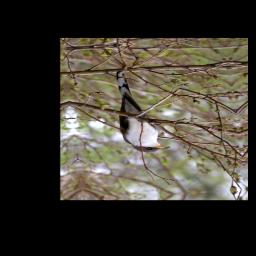Cuckoo: (110, 69, 171, 155)
